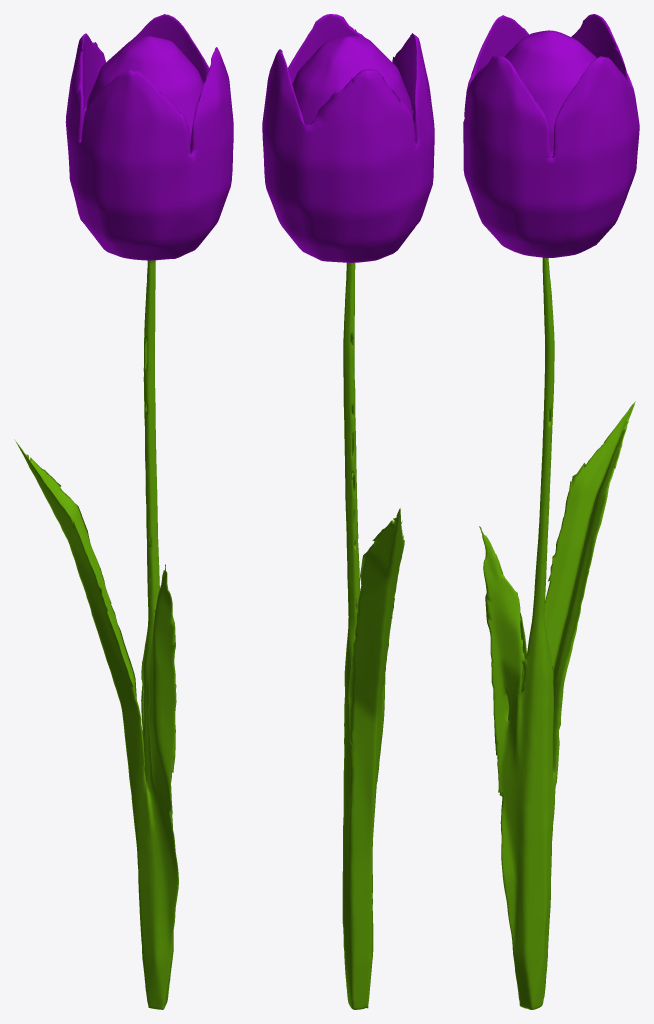
File: purple.glb
3 renders of one model, left to right at view 1: azimuth 30°, elevation 25°; view 2: azimuth 150°, elevation 25°; view 3: azimuth 270°, elevation 25°, orthographic.
Visible parts, largest first — view 1: tulip_purple; view 2: tulip_purple; view 3: tulip_purple.
Part boxes in pixels (x1,y1,x2,y2): tulip_purple: [14, 14, 233, 1009]; tulip_purple: [262, 14, 434, 1009]; tulip_purple: [463, 14, 639, 1009].
Size of the model in its own units: 0.303 by 1.7 by 0.278.
